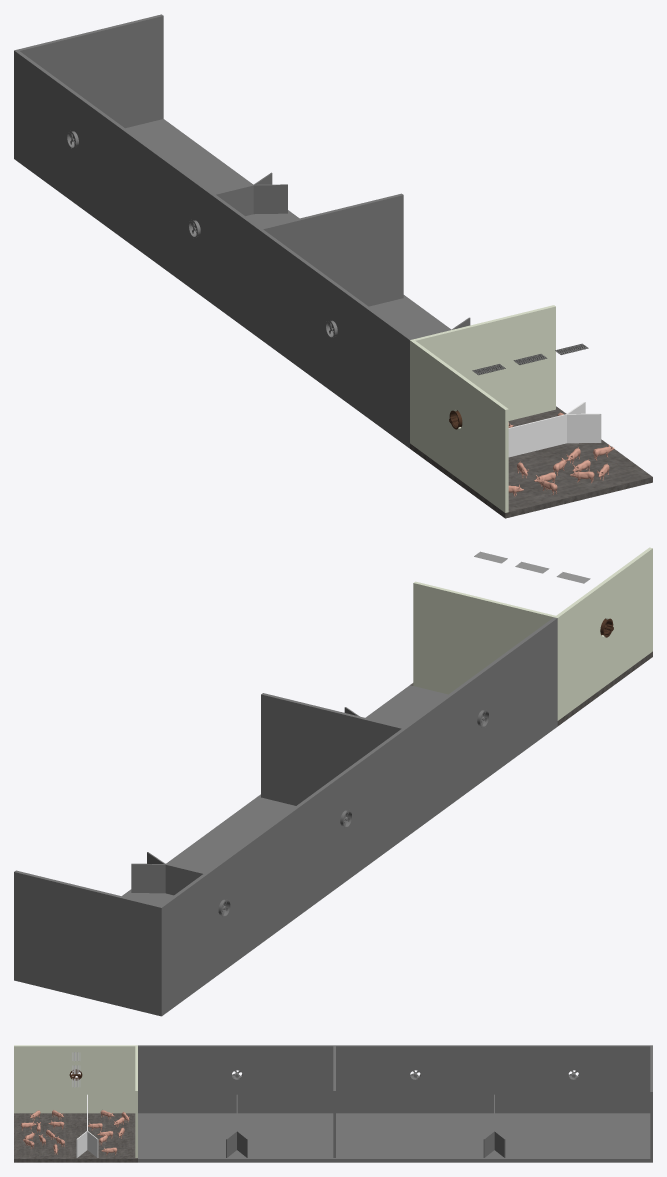
File: weaner_room_test.glb
3 renders of one model, top to bottom at view 1: azimuth 30°, elevation 25°; view 2: azimuth 150°, elevation 25°; view 3: azimuth 270°, elevation 25°, orthographic. The views are drawn at different scales.
Parts seen in each view (by area): view 1: Cube.023, Cube.020, PigRoom_Wall_W_Fan, Cube.025, Cube.018, PigRoom_Wall_N, PigRoom_FloorSlab, Cube.022, Cube.021, PigRoom_W0, Finisher_PigRoom_W2, PigRoom_W2 (+1 smaller); view 2: Cube.023, Cube.020, Cube.025, PigRoom_Wall_W_Fan, PigRoom_Wall_N, Cube.018, Cube.022, Cube.021, Finisher_PigRoom_W1, Finisher_PigRoom_W0; view 3: Cube.023, Cube.022, Cube.020, Cube.021, PigRoom_Wall_W_Fan, PigRoom_FloorSlab, Cube.025, PigRoom_Wall_N, Cube.018, Finisher_PigRoom_W2, PigRoom_W1, Finisher_PigRoom_W1 (+3 smaller).
Part boxes in pixels (<box>): Cube.023: <box>14,49,260,331</box>; Cube.020: <box>257,228,412,442</box>; PigRoom_Wall_W_Fan: <box>410,339,508,512</box>; Cube.025: <box>14,14,163,153</box>; Cube.018: <box>261,193,403,306</box>; PigRoom_Wall_N: <box>414,305,555,420</box>; PigRoom_FloorSlab: <box>410,407,652,518</box>; Cube.022: <box>14,119,404,336</box>; Cube.021: <box>257,296,557,448</box>; PigRoom_W0: <box>508,414,566,457</box>; Finisher_PigRoom_W2: <box>253,184,287,214</box>; PigRoom_W2: <box>567,413,601,443</box>; Cube.023: <box>158,729,405,1010</box>; Cube.020: <box>402,617,557,832</box>; Cube.025: <box>14,870,163,1010</box>; PigRoom_Wall_W_Fan: <box>554,547,652,720</box>; PigRoom_Wall_N: <box>413,581,555,694</box>; Cube.018: <box>261,693,403,805</box>; Cube.022: <box>14,796,405,1016</box>; Cube.021: <box>258,685,557,837</box>; Finisher_PigRoom_W1: <box>131,863,165,893</box>; Finisher_PigRoom_W0: <box>165,864,203,895</box>; Cube.023: <box>336,1045,652,1113</box>; Cube.022: <box>336,1113,652,1162</box>; Cube.020: <box>138,1045,335,1113</box>; Cube.021: <box>138,1113,335,1162</box>; PigRoom_Wall_W_Fan: <box>14,1045,137,1113</box>; PigRoom_FloorSlab: <box>14,1113,137,1162</box>; Cube.025: <box>650,1046,652,1158</box>; PigRoom_Wall_N: <box>135,1046,137,1157</box>; Cube.018: <box>333,1046,335,1157</box>; Finisher_PigRoom_W2: <box>483,1131,494,1157</box>; PigRoom_W1: <box>87,1131,98,1157</box>; Finisher_PigRoom_W1: <box>494,1131,505,1157</box>.
Size of the model in its own units: 4.41 by 2.95 by 24.2.
Materials: 10 (1 with a texture image).
